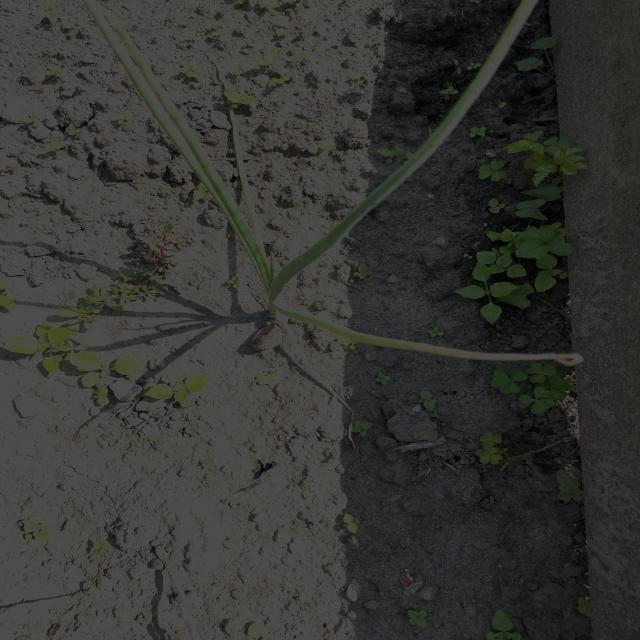Onion: (216, 186, 390, 338)
weed: (473, 124, 600, 214), (469, 217, 572, 324), (5, 309, 96, 378), (495, 362, 585, 420), (135, 371, 216, 416), (81, 352, 147, 403), (469, 427, 516, 476), (552, 463, 596, 507)
